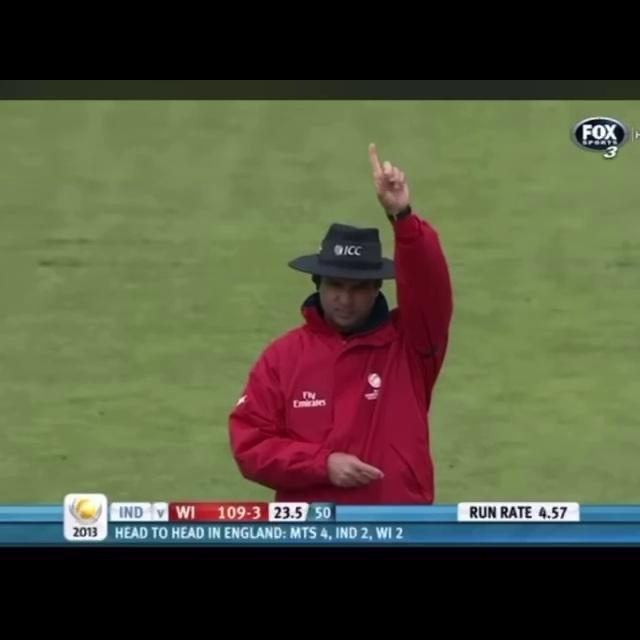umpire: (206, 129, 500, 496)
